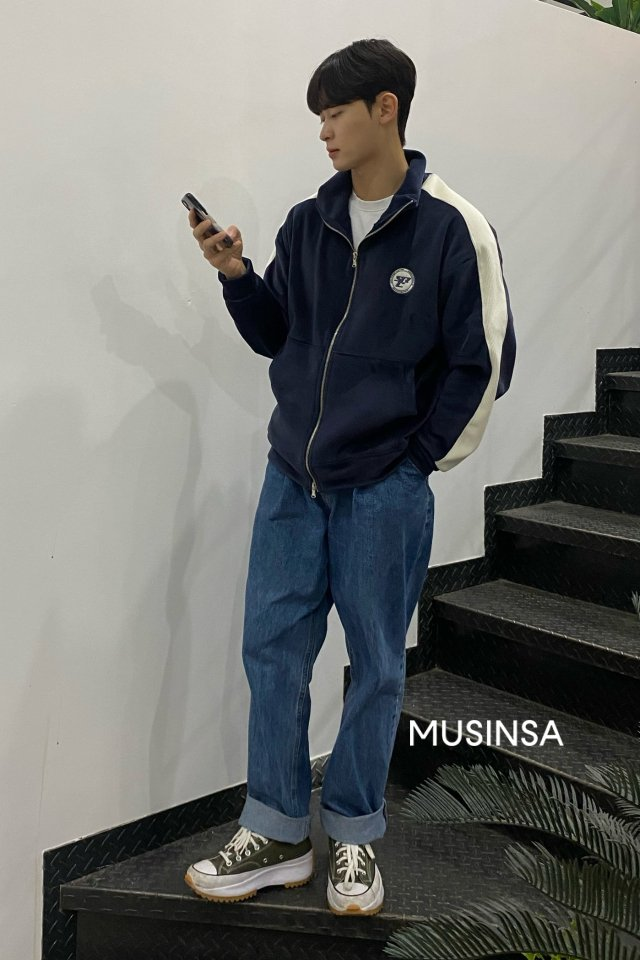Jeans: (243, 441, 442, 851)
Outer: (205, 151, 519, 484)
Shoes: (183, 815, 392, 916)
